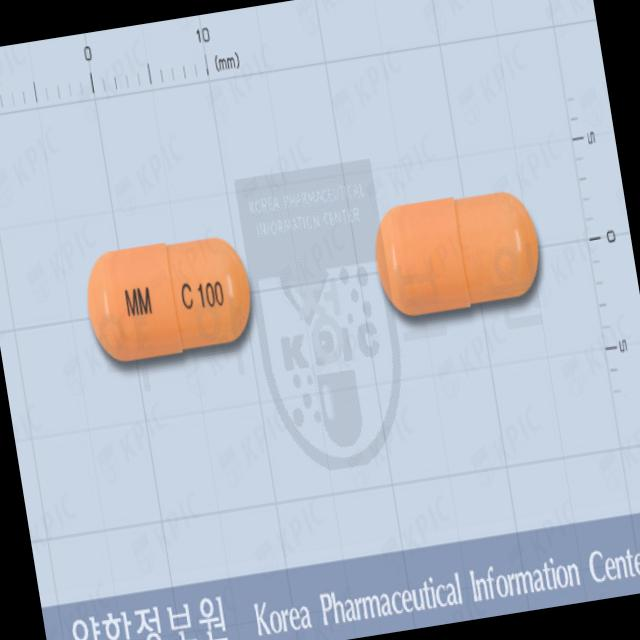Myungmoon Cefixime Cap: (76, 228, 260, 368)
